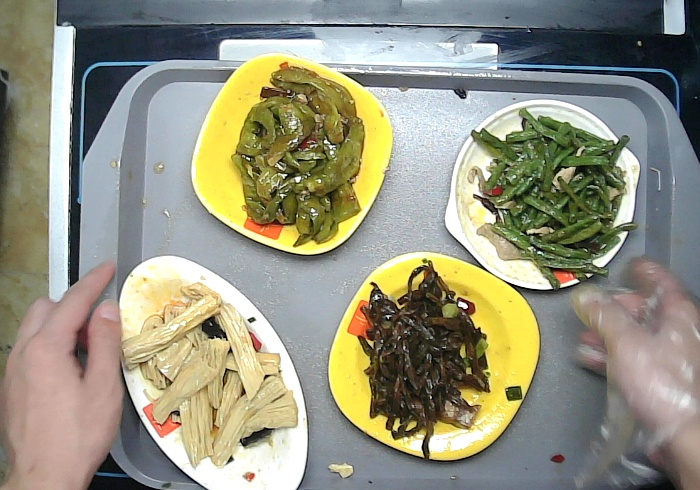SHKJ-Bao_Yu_Pan: (440, 96, 644, 294)
SHKJ-Huang_Se_Cai_Die: (190, 49, 395, 259)
SHKJ-Huang_Se_Si_Fang_Cai_Die: (327, 251, 544, 465)
SHKJ-Yu_Pan: (108, 254, 315, 490)
